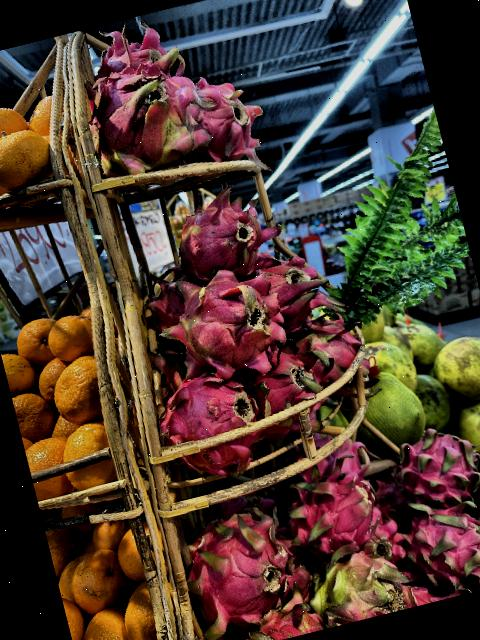buah-naga-belum-matang: (150, 250, 296, 392), (74, 38, 215, 184), (157, 185, 279, 289), (294, 532, 412, 632)
buah-naga-matang: (146, 359, 286, 486), (177, 506, 310, 637), (278, 458, 398, 560), (378, 411, 480, 524), (184, 56, 276, 178), (388, 486, 480, 606), (244, 341, 343, 446), (295, 310, 398, 410), (246, 246, 343, 342)
